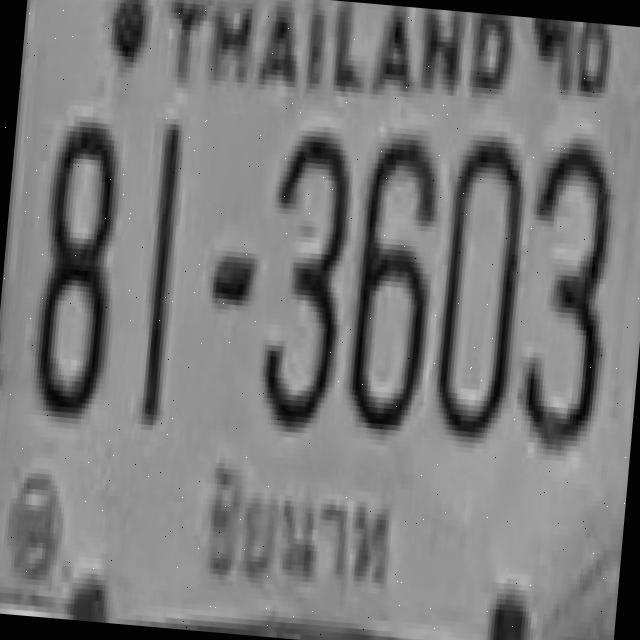0: (416, 110, 530, 471)
1: (114, 99, 198, 471)
3: (501, 110, 624, 502), (242, 111, 364, 452)
6: (334, 112, 447, 470)
8: (10, 98, 143, 462)
ChaiNat: (166, 433, 442, 633)
